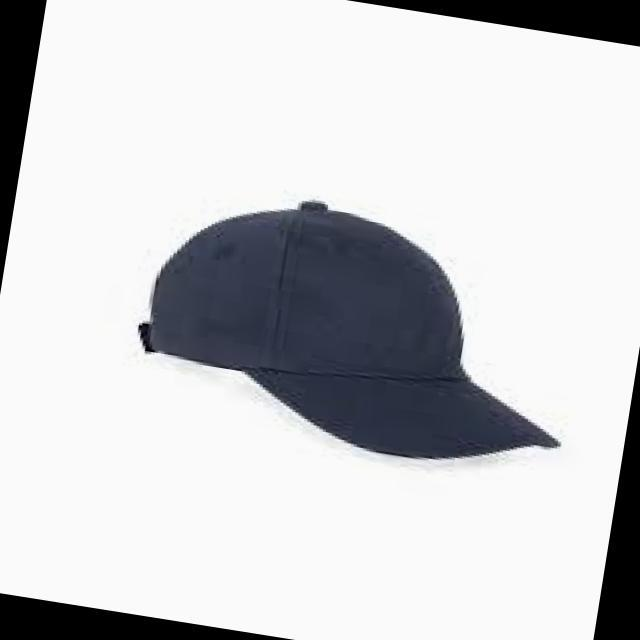cap: (51, 144, 634, 538)
